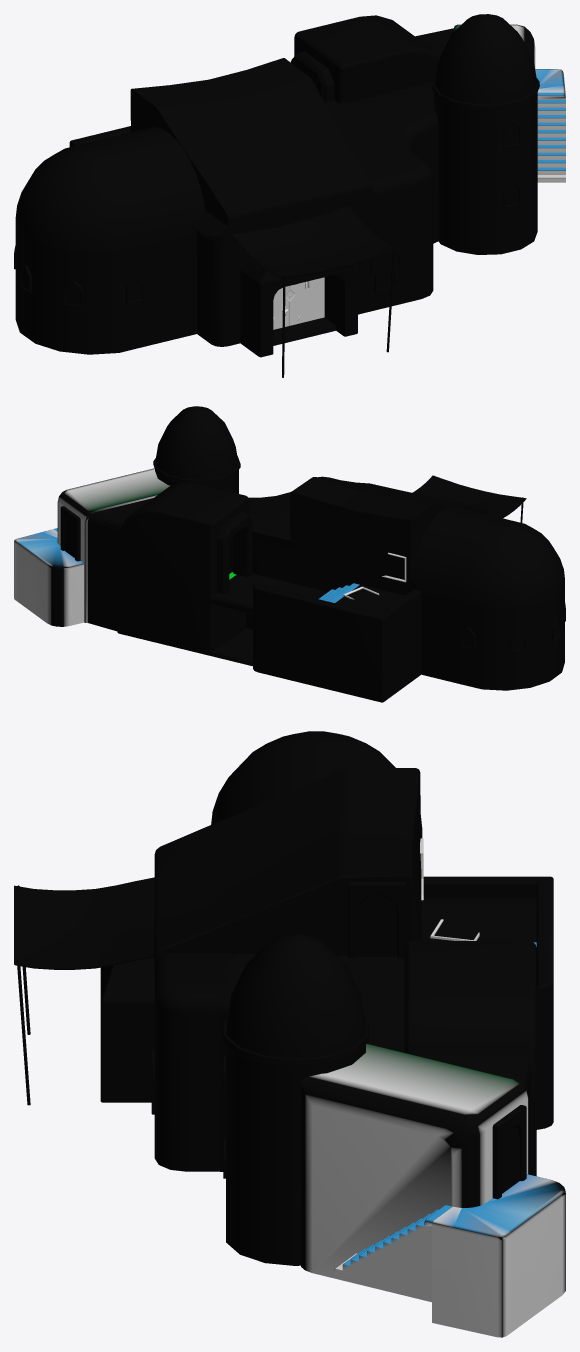
File: SM_Exploiters_House001(1).fbx
3 views of the same model, one above another, from view 1: azimuth 30°, elevation 25°; view 2: azimuth 150°, elevation 25°; view 3: azimuth 270°, elevation 25° (orthographic). The views are drawn at different scales.
Parts seen in each view (by area): view 1: Habitation1, PorteDroite, PorteGauche; view 2: Habitation1; view 3: Habitation1.
Boxes of the visible parts, x1,y1,x2,y2 form: Habitation1: (14,14,565,377); PorteDroite: (289,277,324,325); PorteGauche: (273,286,288,329); Habitation1: (14,406,565,702); Habitation1: (14,731,565,1337).
Size of the model in its own units: 3426 by 1177 by 1964.
